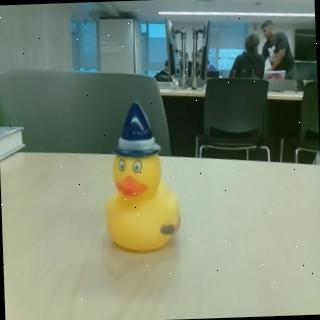duck_specialty: (101, 98, 184, 254)
